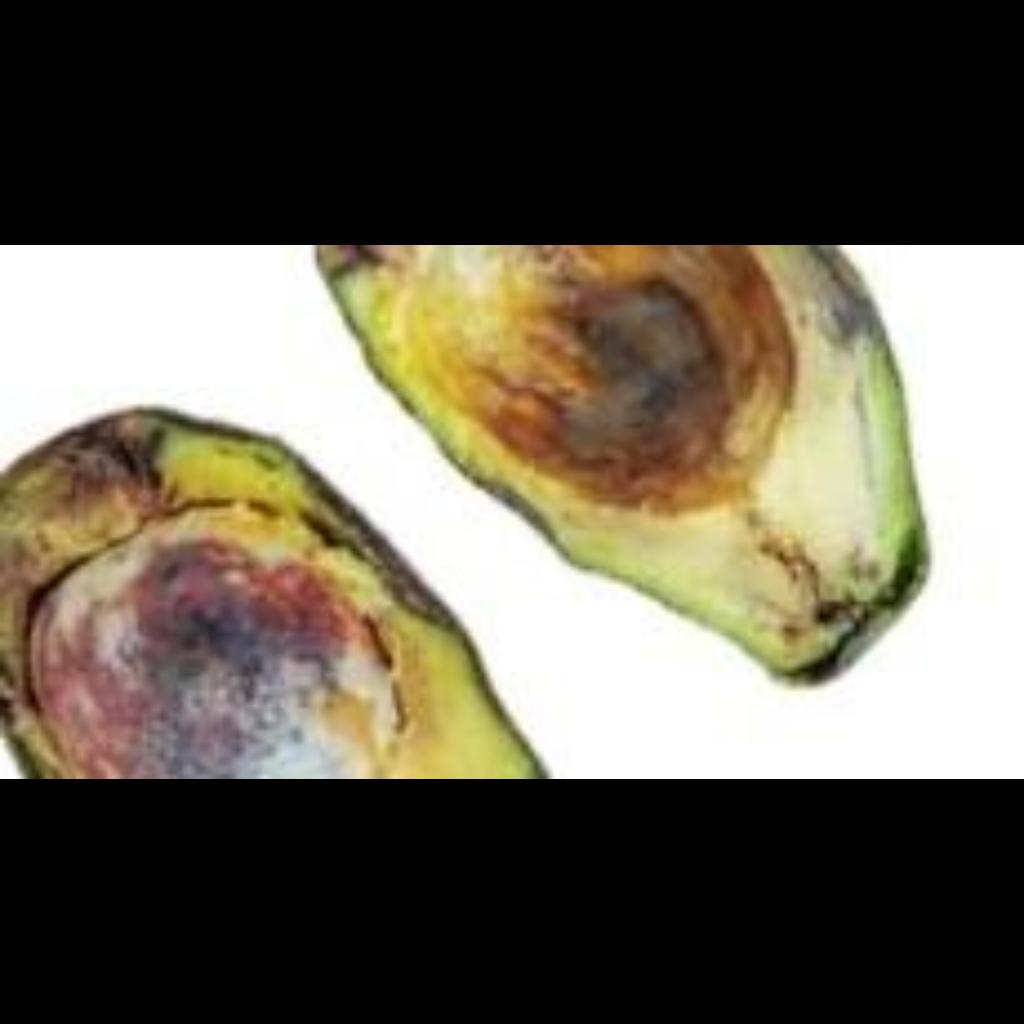antracnosis_fruto: (0, 430, 405, 732), (320, 244, 810, 449)
